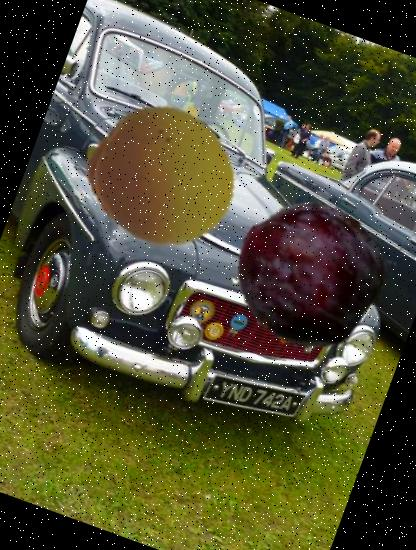Peach: (69, 81, 260, 272)
Plum: (214, 181, 400, 367)
